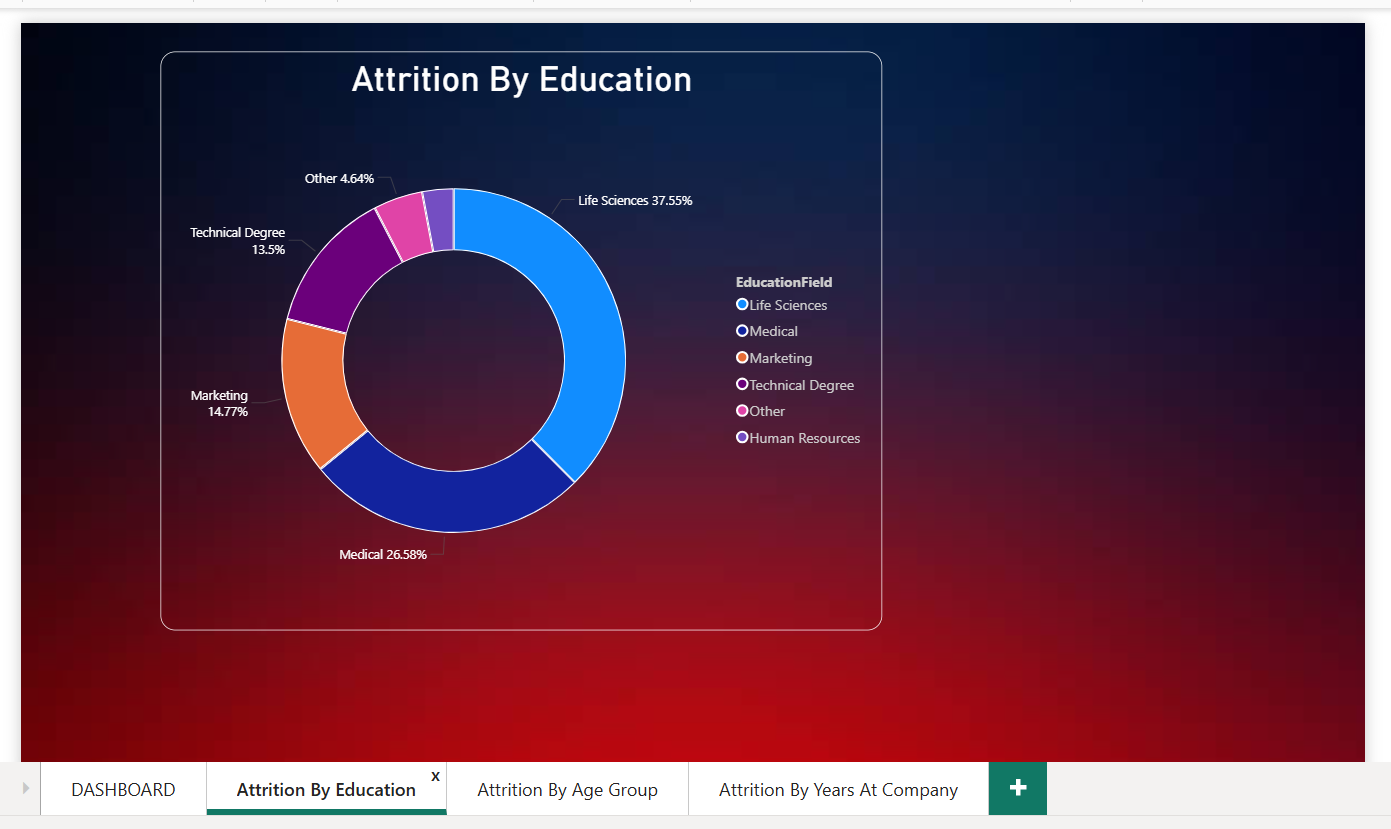

What the dashboard file says about the page in this screenshot:
{"tool":"powerbi","page":{"name":"Attrition By Education","canvas":[1280,720],"ordinal":1},"visuals":[{"type":"donutChart","title":"Attrition By Education","fields":{"Category":["HR_Analytics.EducationField"],"Y":["Sum(HR_Analytics.Attrition Count)"]},"box":[132.9,27.1,687.1,551.4],"z":0}]}

Visuals, with their boxes on the page's 1280x720 design canvas (x1, y1, x2, y2). These are canvas units, not pixel positions in the 1391x829 screenshot, which may show the page scaled, cropped or inside an application window:
"Attrition By Education" donutChart: (133,27,820,578)
